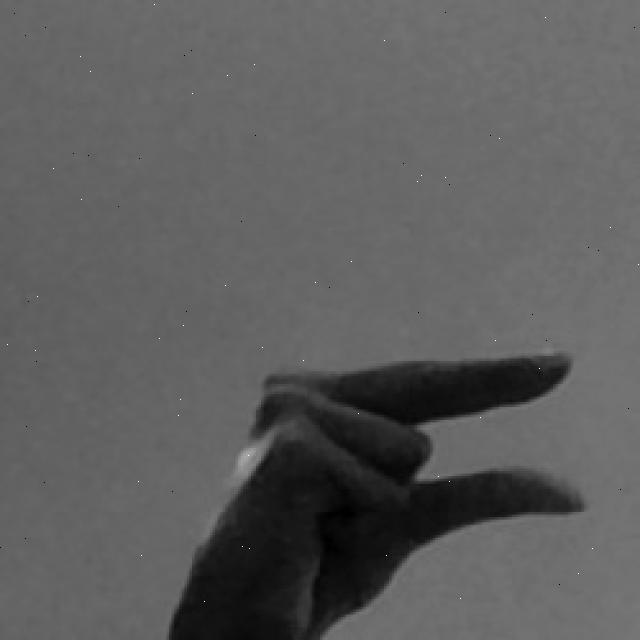G: (166, 345, 588, 640)
